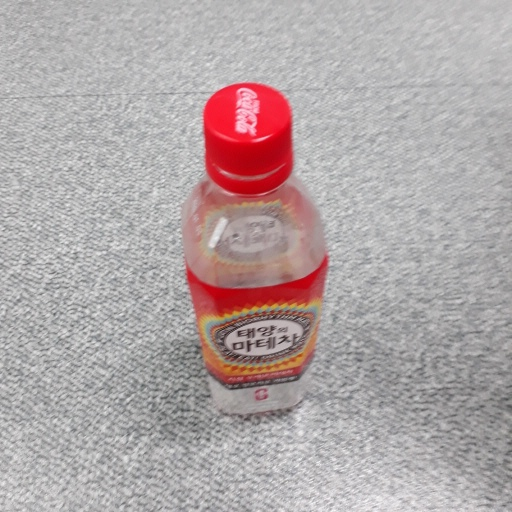Plastic_0: (181, 81, 330, 416)
